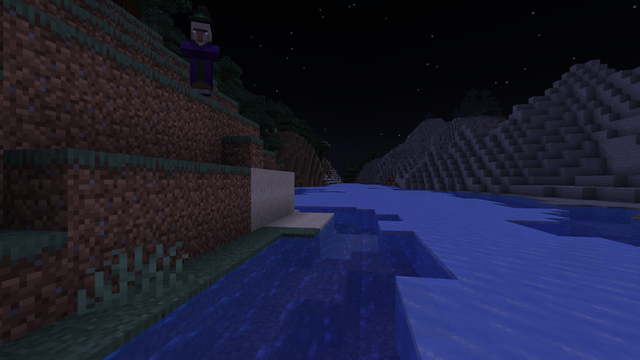sorcieres: (184, 17, 216, 98)
